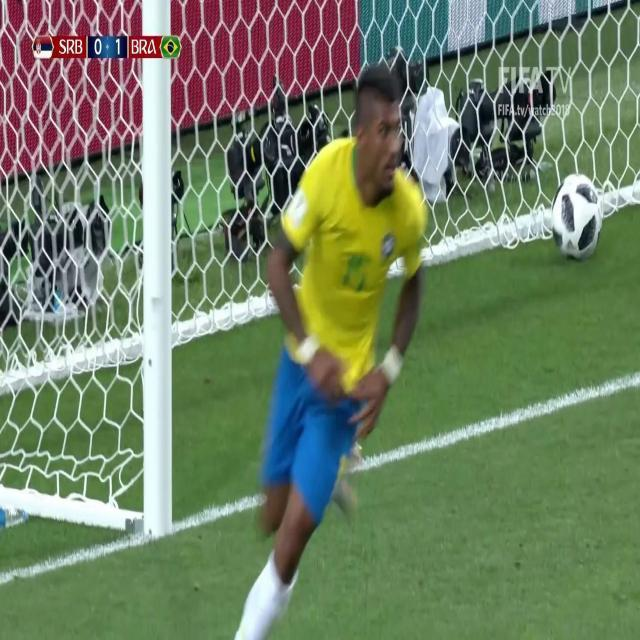ball: (544, 163, 607, 272)
player: (209, 62, 441, 640)
